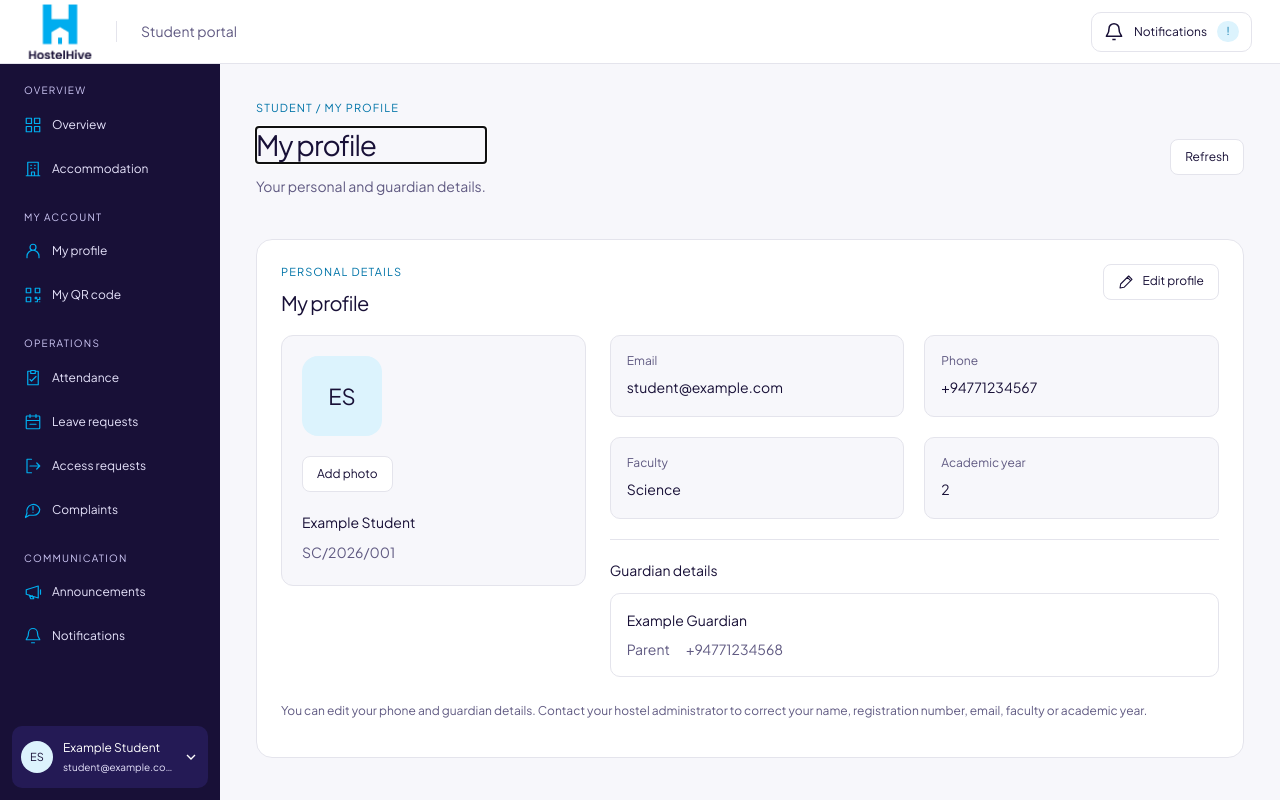
Test case: opens photo management from My profile and refreshes when it closes
Step 1. Click the button "Add photo" → (347,474), box left=302, top=456, right=392, bottom=492
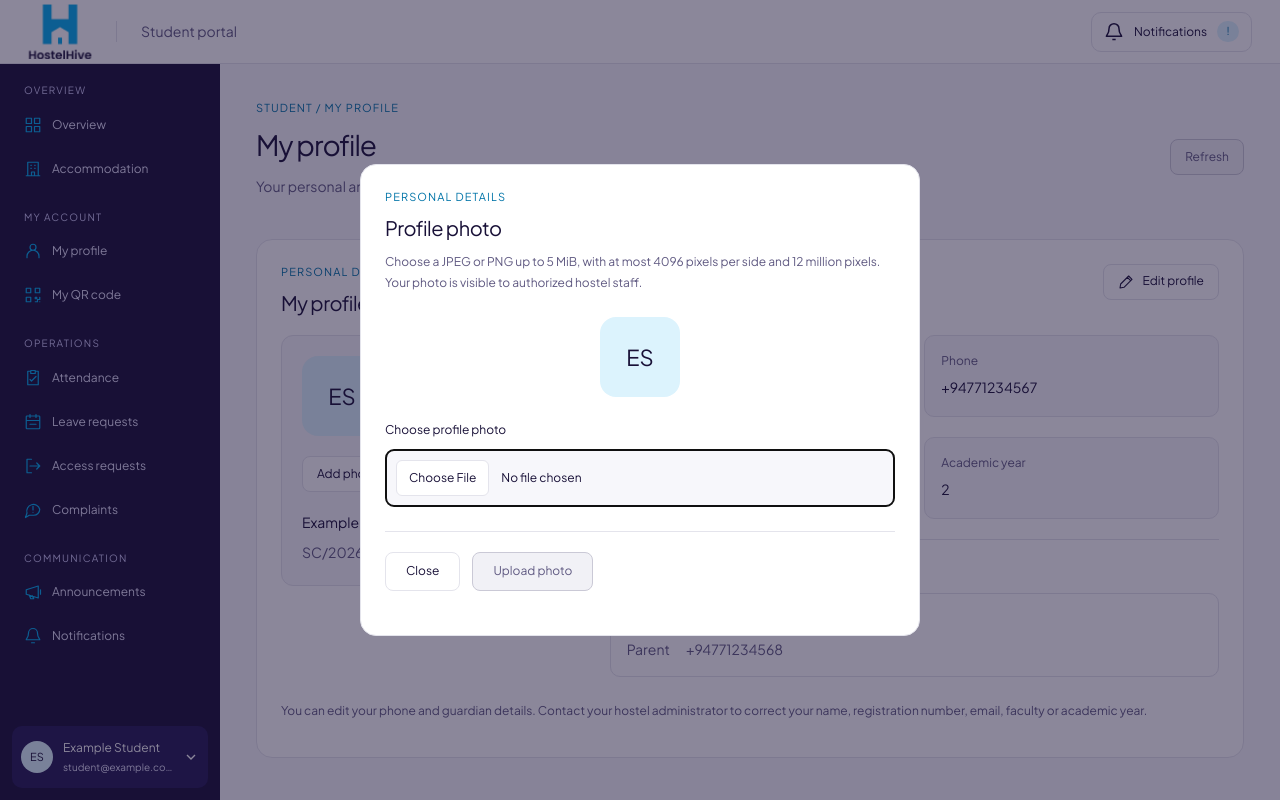
Expected: the dialog "Profile photo" is shown, left=360, top=164, right=920, bottom=636
Expected: the file field labelled "Choose profile photo" is enabled, left=385, top=449, right=895, bottom=507
Expected: the button "Refresh" is disabled, left=1170, top=139, right=1244, bottom=175
Step 2. Click the button "Close" → (423,572), box left=385, top=552, right=460, bottom=591
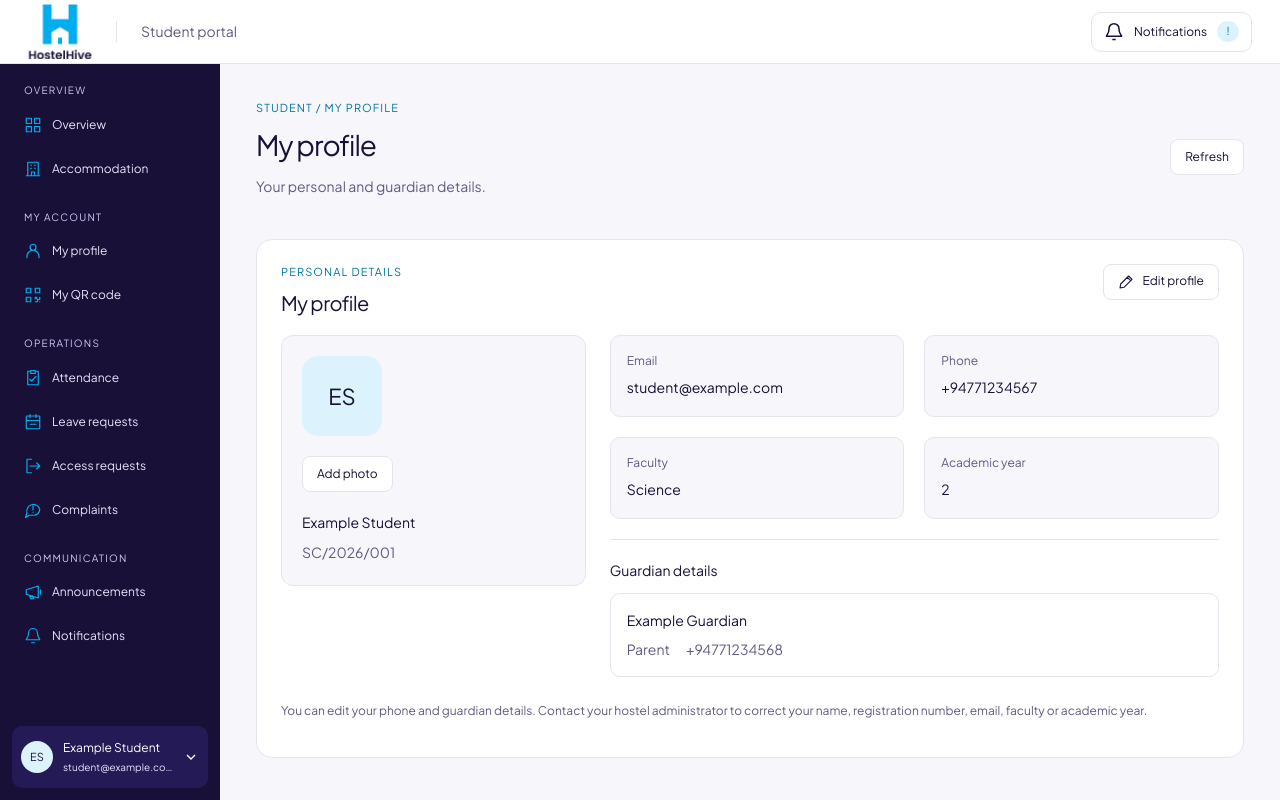
Expected: the dialog is gone
